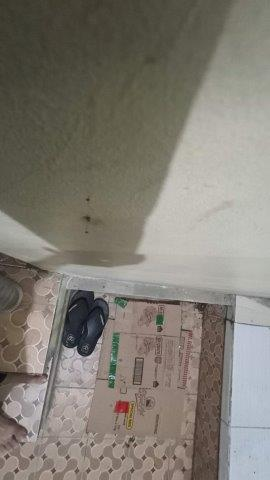kardus: (89, 302, 192, 433)
